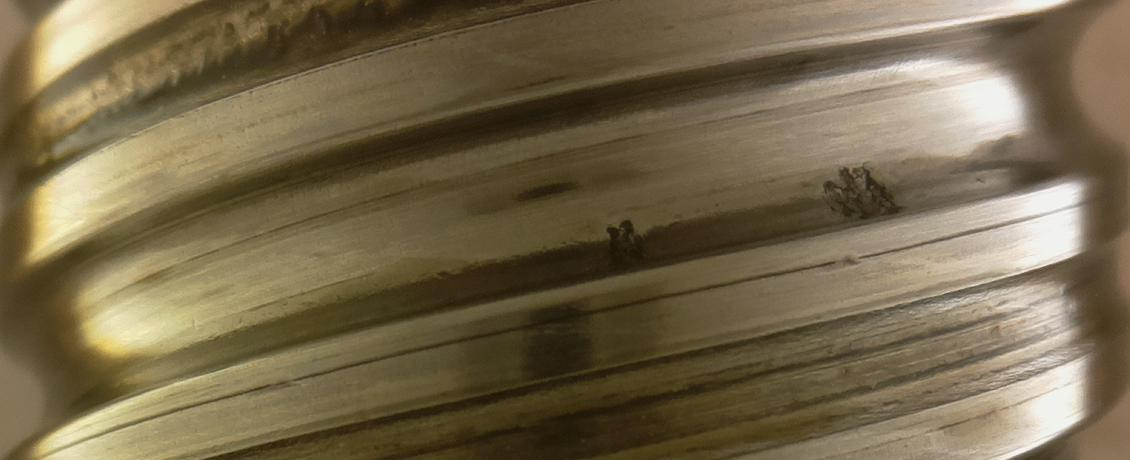pitting: (821, 166, 907, 219), (605, 218, 643, 272)
